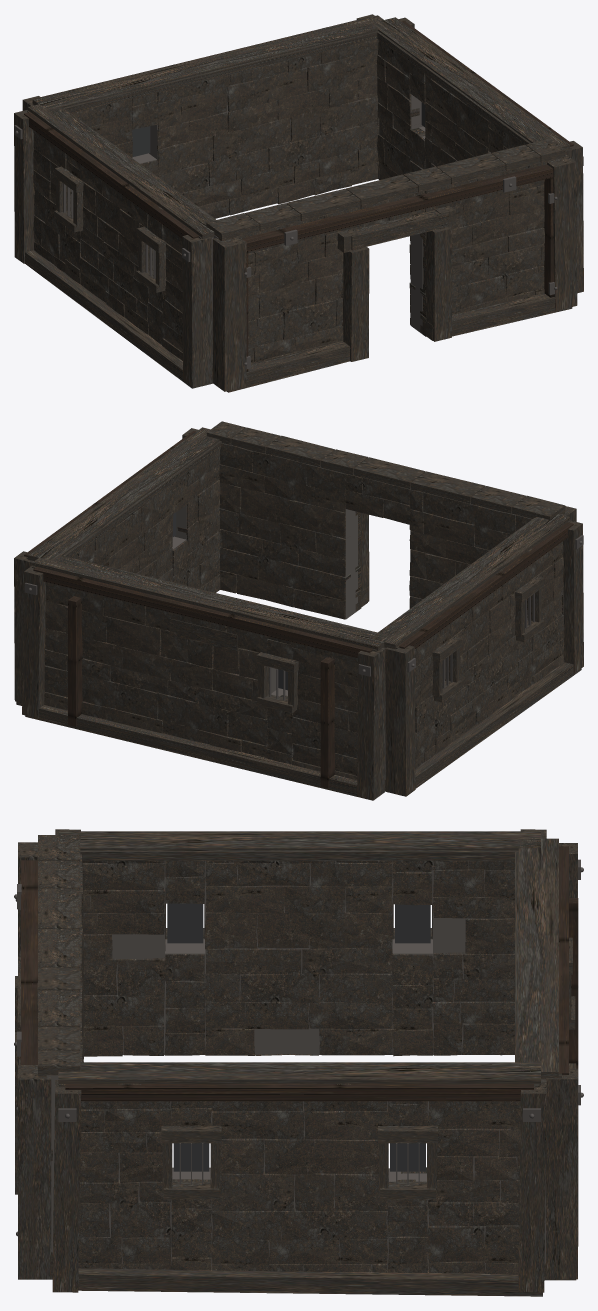
The model's file is full_workshop_preview.glb.
3 views of the same model, one above another, from view 1: azimuth 30°, elevation 25°; view 2: azimuth 150°, elevation 25°; view 3: azimuth 270°, elevation 25° (orthographic). The views are drawn at different scales.
Parts seen in each view (by area): view 1: GENESIS_BATCH_Quarry basalt / dark warm PBR, GENESIS_BATCH_Basalt - mineral warm variance, GENESIS_BATCH_Soot deposits - char and oxide, GENESIS_BATCH_Blackened ironstone coping / dark scanned, GENESIS_BATCH_Oak / fire seasoned PBR, GENESIS_BATCH_Recessed stone mortar / dark, GENESIS_BATCH_Oxidized forged iron, GENESIS_BATCH_Blacksmith · soot-stained grille backgroun; view 2: GENESIS_BATCH_Quarry basalt / dark warm PBR, GENESIS_BATCH_Soot deposits - char and oxide, GENESIS_BATCH_Basalt - mineral warm variance, GENESIS_BATCH_Blackened ironstone coping / dark scanned, GENESIS_BATCH_Oak / fire seasoned PBR, GENESIS_BATCH_Recessed stone mortar / dark, GENESIS_BATCH_Oxidized forged iron; view 3: GENESIS_BATCH_Quarry basalt / dark warm PBR, GENESIS_BATCH_Basalt - mineral warm variance, GENESIS_BATCH_Soot deposits - char and oxide, GENESIS_BATCH_Blackened ironstone coping / dark scanned, GENESIS_BATCH_Oak / fire seasoned PBR, GENESIS_BATCH_Recessed stone mortar / dark, GENESIS_BATCH_Blacksmith · soot-stained grille backgroun, GENESIS_BATCH_Oxidized forged iron.
Part boxes in pixels (box(x1,y1,x2,y2)): GENESIS_BATCH_Quarry basalt / dark warm PBR: box(14, 39, 577, 392); GENESIS_BATCH_Basalt - mineral warm variance: box(22, 14, 583, 386); GENESIS_BATCH_Soot deposits - char and oxide: box(33, 46, 555, 373); GENESIS_BATCH_Blackened ironstone coping / dark scanned: box(27, 15, 569, 240); GENESIS_BATCH_Oak / fire seasoned PBR: box(24, 17, 573, 371); GENESIS_BATCH_Recessed stone mortar / dark: box(70, 67, 490, 360); GENESIS_BATCH_Oxidized forged iron: box(14, 125, 583, 368); GENESIS_BATCH_Blacksmith · soot-stained grille backgroun: box(132, 102, 425, 157); GENESIS_BATCH_Quarry basalt / dark warm PBR: box(25, 443, 581, 800); GENESIS_BATCH_Soot deposits - char and oxide: box(94, 449, 564, 780); GENESIS_BATCH_Basalt - mineral warm variance: box(14, 428, 583, 800); GENESIS_BATCH_Blackened ironstone coping / dark scanned: box(27, 421, 569, 651); GENESIS_BATCH_Oak / fire seasoned PBR: box(24, 431, 573, 788); GENESIS_BATCH_Recessed stone mortar / dark: box(172, 467, 562, 791); GENESIS_BATCH_Oxidized forged iron: box(24, 535, 583, 700); GENESIS_BATCH_Quarry basalt / dark warm PBR: box(15, 829, 576, 1280); GENESIS_BATCH_Basalt - mineral warm variance: box(15, 829, 577, 1296); GENESIS_BATCH_Soot deposits - char and oxide: box(37, 860, 520, 1274); GENESIS_BATCH_Blackened ironstone coping / dark scanned: box(38, 831, 558, 1085); GENESIS_BATCH_Oak / fire seasoned PBR: box(21, 846, 578, 1246); GENESIS_BATCH_Recessed stone mortar / dark: box(46, 860, 545, 1278); GENESIS_BATCH_Blacksmith · soot-stained grille backgroun: box(167, 903, 430, 1171); GENESIS_BATCH_Oxidized forged iron: box(14, 859, 583, 1236).
Bounding box in the file's own units: 9.13 × 3.4 × 8.16.
Materials: 9 (6 with a texture image).
